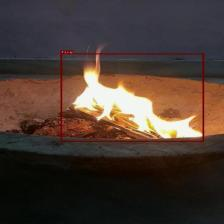fire: (61, 53, 204, 142)
